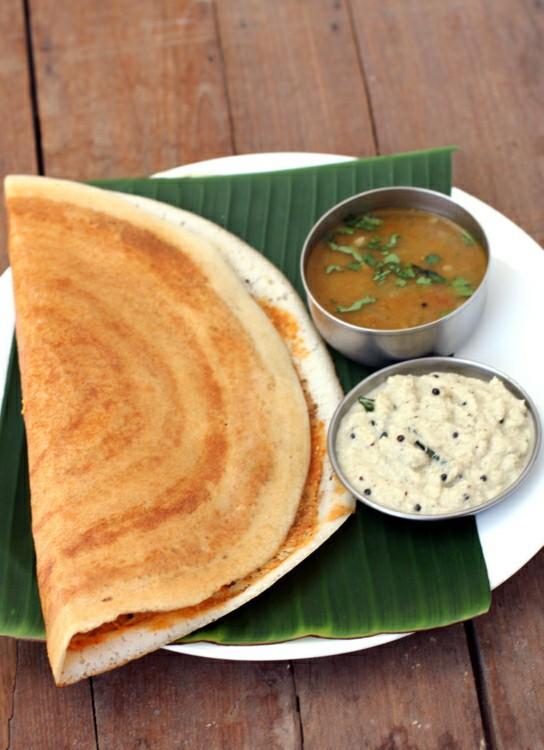CoconutChutney: (333, 369, 534, 516)
Dosa: (6, 176, 355, 684)
